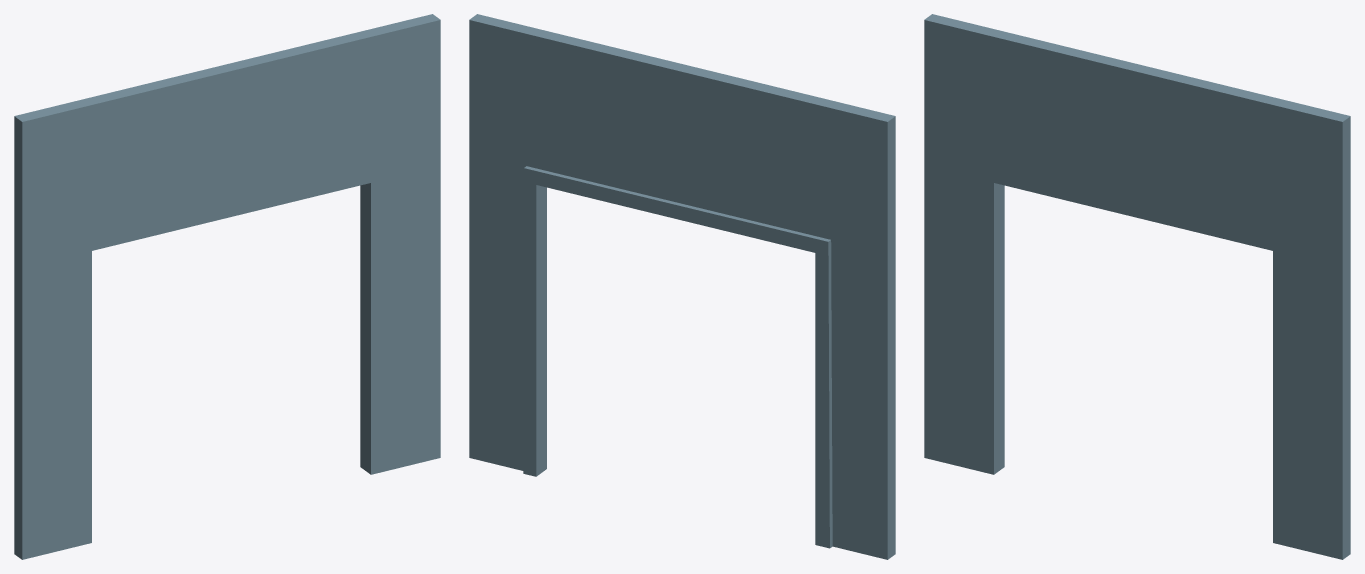
Rendered from wall_2x_door.fbx.
3 renders of one model, left to right at view 1: azimuth 30°, elevation 25°; view 2: azimuth 150°, elevation 25°; view 3: azimuth 330°, elevation 25°, orthographic.
Parts seen in each view (by area): view 1: Wall_2.061; view 2: Wall_2.061; view 3: Wall_2.061.
Part boxes in pixels (x1,y1,x2,y2): Wall_2.061: (14,14,440,559); Wall_2.061: (469,14,895,559); Wall_2.061: (924,14,1350,559).
Size of the model in its own units: 300 by 300 by 13.38.
